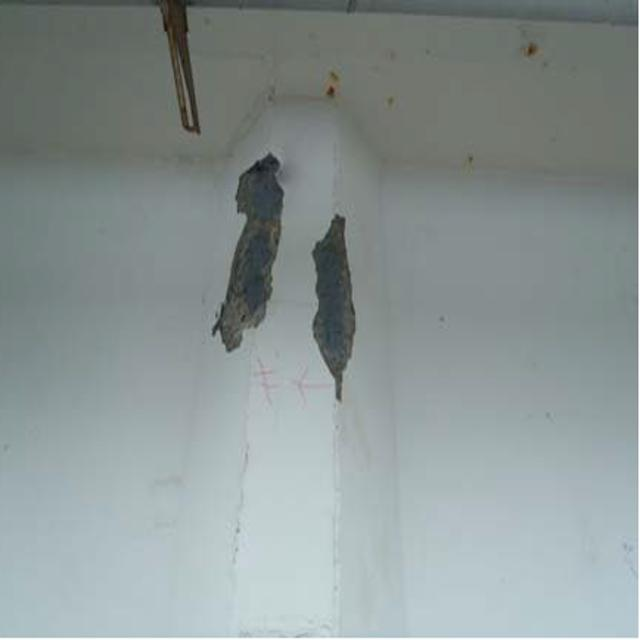spalling: (203, 130, 386, 393)
